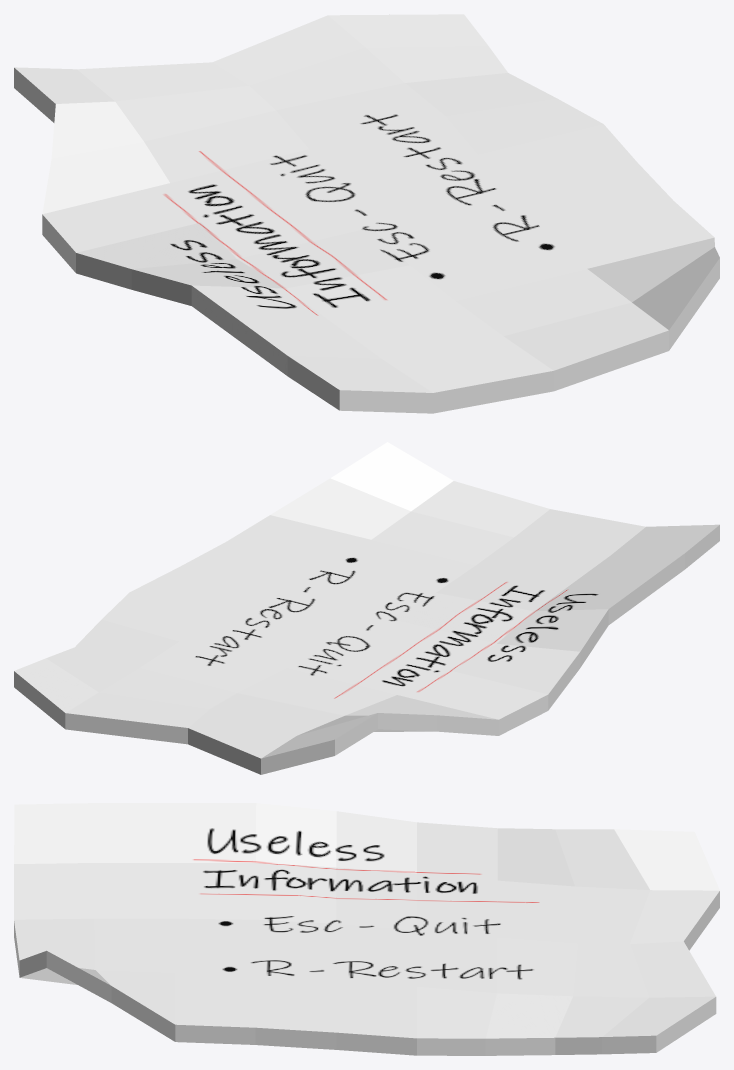
The model's file is ControlsPageV2.fbx.
3 renders of one model, top to bottom at view 1: azimuth 30°, elevation 25°; view 2: azimuth 150°, elevation 25°; view 3: azimuth 270°, elevation 25°, orthographic. The views are drawn at different scales.
Parts seen in each view (by area): view 1: Cube; view 2: Cube; view 3: Cube.
Boxes of the visible parts, x1,y1,x2,y2 form: Cube: [14, 14, 719, 413]; Cube: [14, 442, 719, 774]; Cube: [14, 803, 719, 1055].
Size of the model in its own units: 264 by 192 by 27.68.
